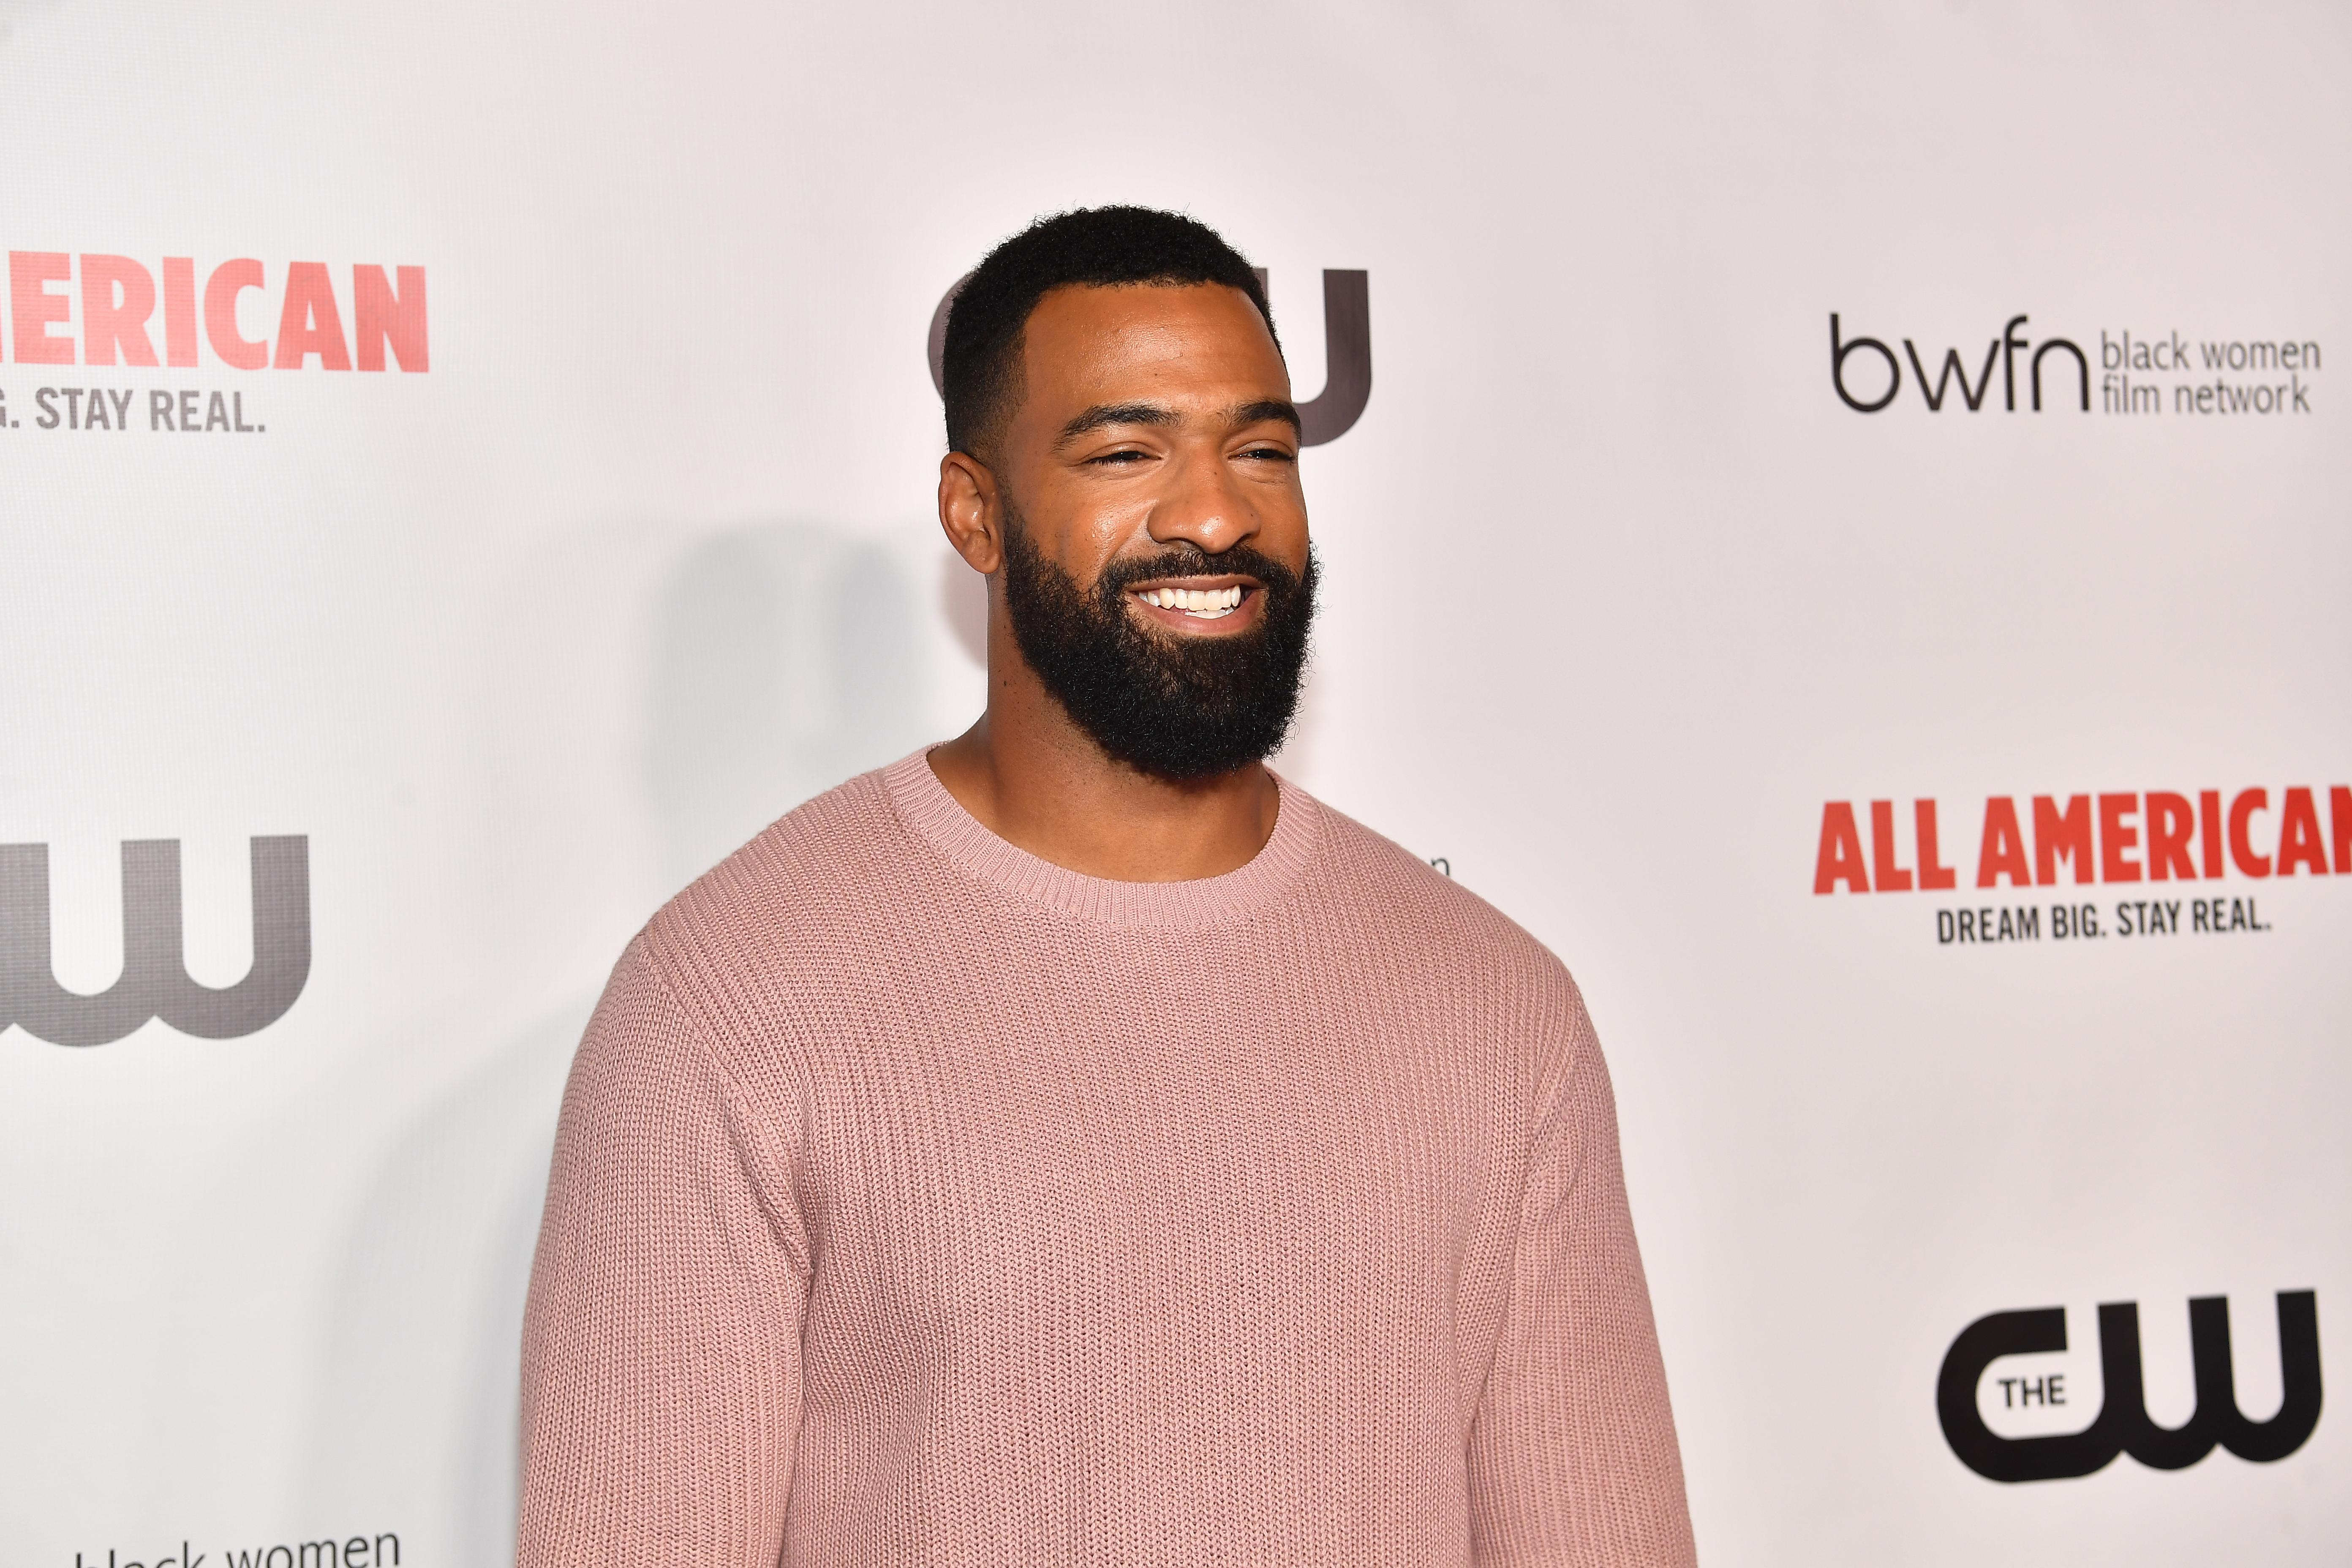No Mask: (1020, 504, 1396, 779)
